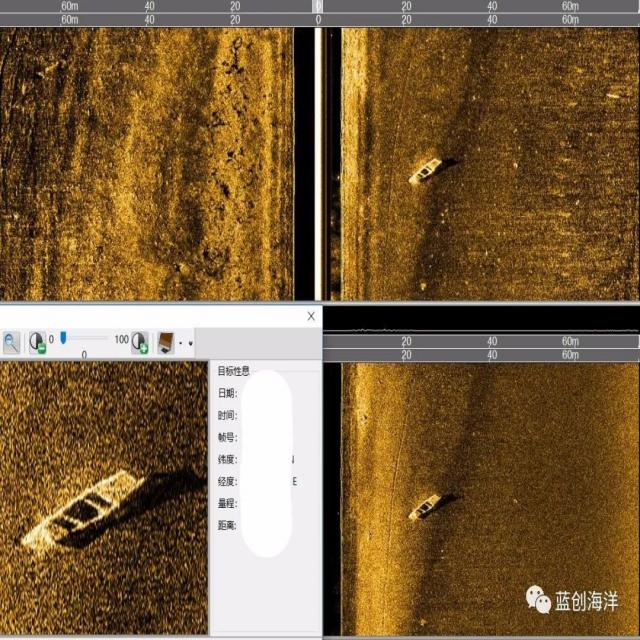ship: (25, 469, 146, 550), (406, 487, 444, 527), (408, 153, 444, 188)
